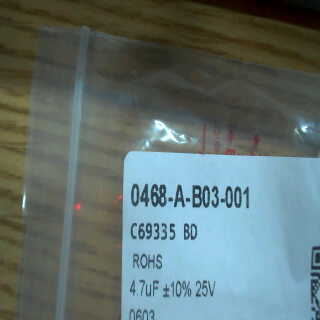4.7uF: (126, 278, 161, 300)
